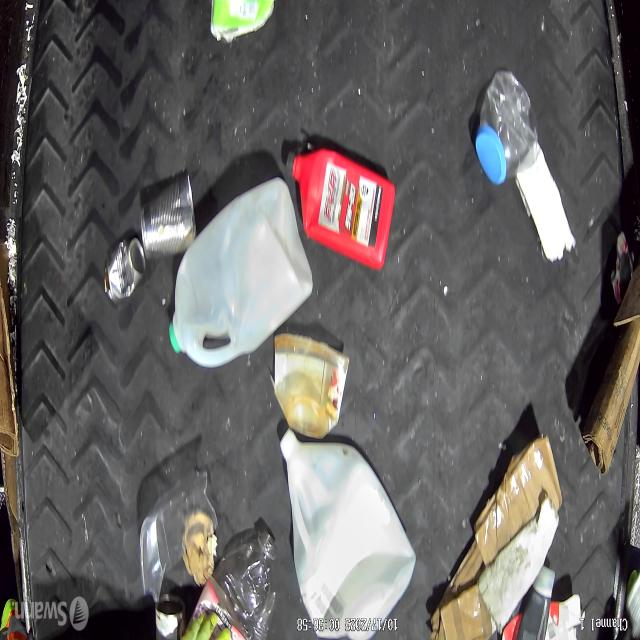can: (140, 171, 196, 260), (104, 235, 144, 302), (155, 594, 187, 640)
milk_jug: (280, 428, 416, 640), (168, 178, 313, 368)
non_white_jug: (292, 145, 395, 271)
plastic_bottle: (185, 529, 274, 638)
